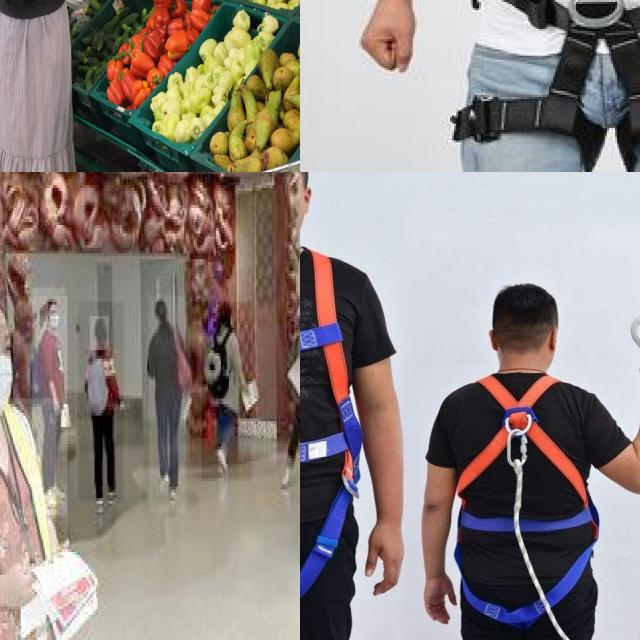Harness: (452, 371, 600, 622), (474, 0, 640, 172), (300, 249, 348, 609)
face_mask: (0, 324, 14, 415), (48, 302, 58, 324)
head_nohelmet: (90, 316, 110, 353), (0, 290, 10, 327), (157, 299, 168, 330)
person: (0, 296, 69, 640), (79, 302, 125, 504), (202, 302, 253, 484), (149, 296, 187, 515), (32, 288, 68, 515)
shoes: (278, 454, 295, 494), (103, 480, 121, 508), (90, 490, 106, 518), (167, 479, 181, 511), (155, 468, 169, 497)
vest: (0, 398, 58, 640)
